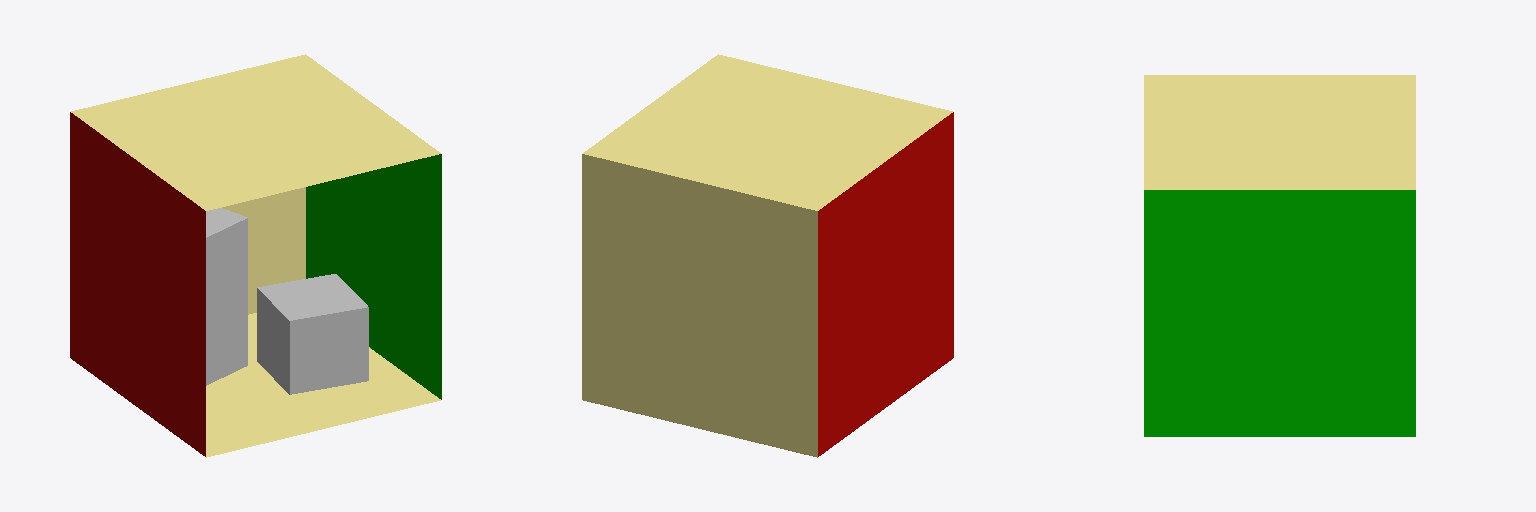
Rendered from CornellBox-Original.obj.
3 renders of one model, left to right at view 1: azimuth 30°, elevation 25°; view 2: azimuth 150°, elevation 25°; view 3: azimuth 270°, elevation 25°, orthographic.
Visible parts, largest first — view 1: LeftWall_Plane.003, Floor_Plane.004, RightWall_Plane.002, Ceiling_Plane, SmallBox_Cube.002, TallBox_Cube.001, BackWall_Plane.001; view 2: BackWall_Plane.001, LeftWall_Plane.003, Floor_Plane.004; view 3: RightWall_Plane.002, Floor_Plane.004.
Part boxes in pixels (bbox=[...]): LeftWall_Plane.003: bbox=[70, 112, 205, 456]; Floor_Plane.004: bbox=[71, 54, 440, 210]; RightWall_Plane.002: bbox=[306, 154, 441, 399]; Ceiling_Plane: bbox=[206, 313, 440, 457]; SmallBox_Cube.002: bbox=[257, 274, 368, 394]; TallBox_Cube.001: bbox=[206, 208, 247, 385]; BackWall_Plane.001: bbox=[222, 187, 305, 314]; BackWall_Plane.001: bbox=[582, 154, 817, 457]; LeftWall_Plane.003: bbox=[818, 112, 953, 456]; Floor_Plane.004: bbox=[583, 54, 952, 210]; RightWall_Plane.002: bbox=[1144, 190, 1415, 436]; Floor_Plane.004: bbox=[1144, 75, 1415, 189].
Bounding box in the file's own units: 10 × 10 × 10.